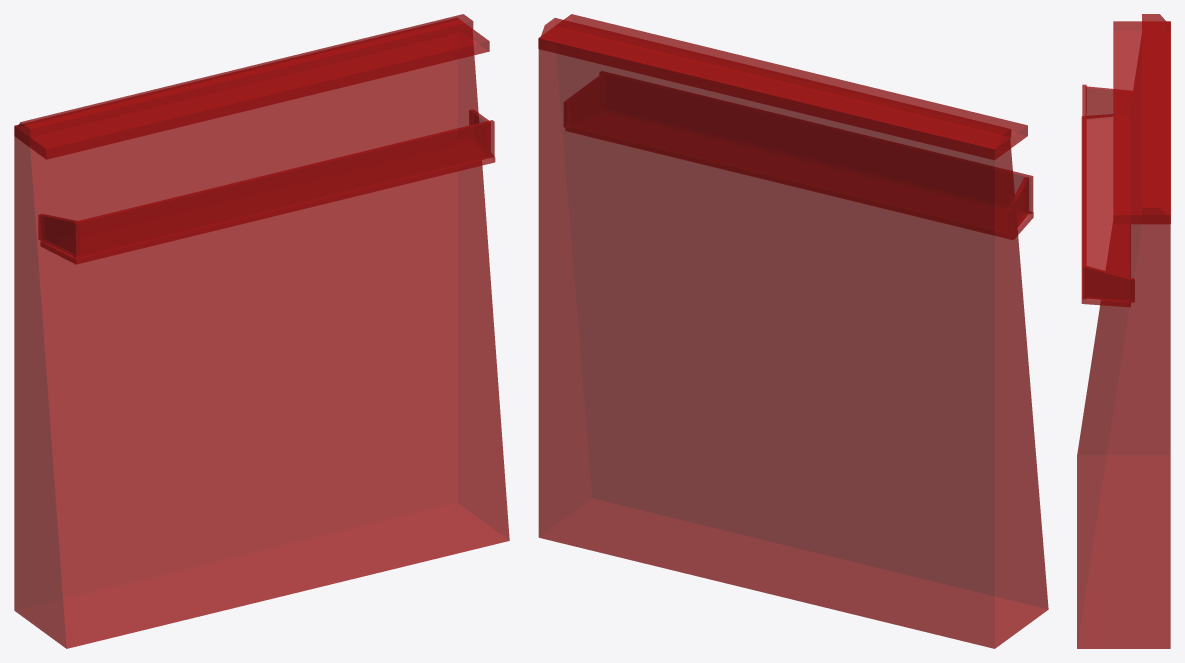
Rendered from SM_Env_Port_Drydock_Large_NoRail_01_Collision.fbx.
3 renders of one model, left to right at view 1: azimuth 30°, elevation 25°; view 2: azimuth 150°, elevation 25°; view 3: azimuth 270°, elevation 25°, orthographic. The views are drawn at different scales.
Visible parts, largest first — view 1: SM_Env_Port_Drydock_Large_NoRail_01_Collision; view 2: SM_Env_Port_Drydock_Large_NoRail_01_Collision; view 3: SM_Env_Port_Drydock_Large_NoRail_01_Collision.
Boxes of the visible parts, left/top/right/bottom form: SM_Env_Port_Drydock_Large_NoRail_01_Collision: left=14, top=14, right=509, bottom=648; SM_Env_Port_Drydock_Large_NoRail_01_Collision: left=538, top=14, right=1048, bottom=648; SM_Env_Port_Drydock_Large_NoRail_01_Collision: left=1077, top=14, right=1170, bottom=648.
Bounding box in the file's own units: 1000 × 1063 × 205.
